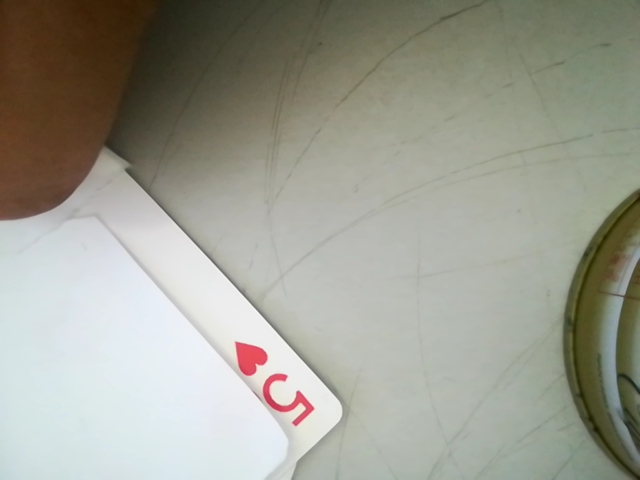hx 5: (219, 333, 325, 436)
